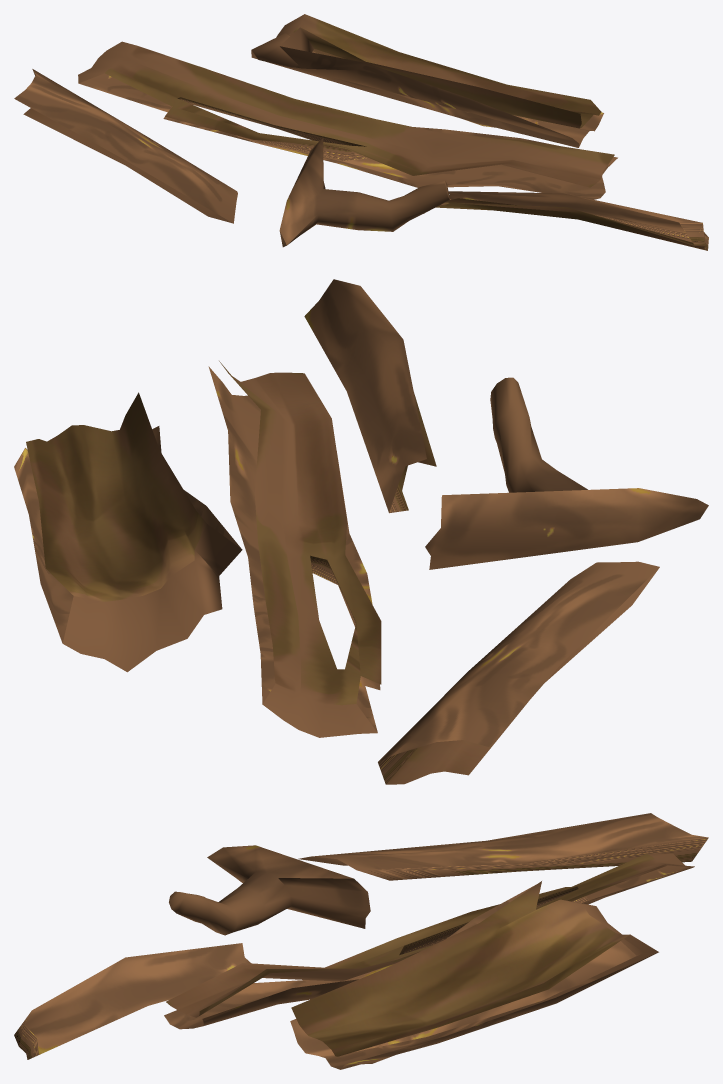
File: TRONCO_RUINAS.fbx
The picture shows the model from 3 angles, top to bottom: view 1: azimuth 30°, elevation 25°; view 2: azimuth 150°, elevation 25°; view 3: azimuth 270°, elevation 25°; orthographic projection. The views are drawn at different scales.
Visible parts, largest first — view 1: tronco_ruinas; view 2: tronco_ruinas; view 3: tronco_ruinas.
Part boxes in pixels (bbox=[...]): tronco_ruinas: bbox=[14, 14, 708, 250]; tronco_ruinas: bbox=[14, 279, 708, 784]; tronco_ruinas: bbox=[14, 813, 708, 1069].
Bounding box in the file's own units: 439 × 83.51 × 556.
